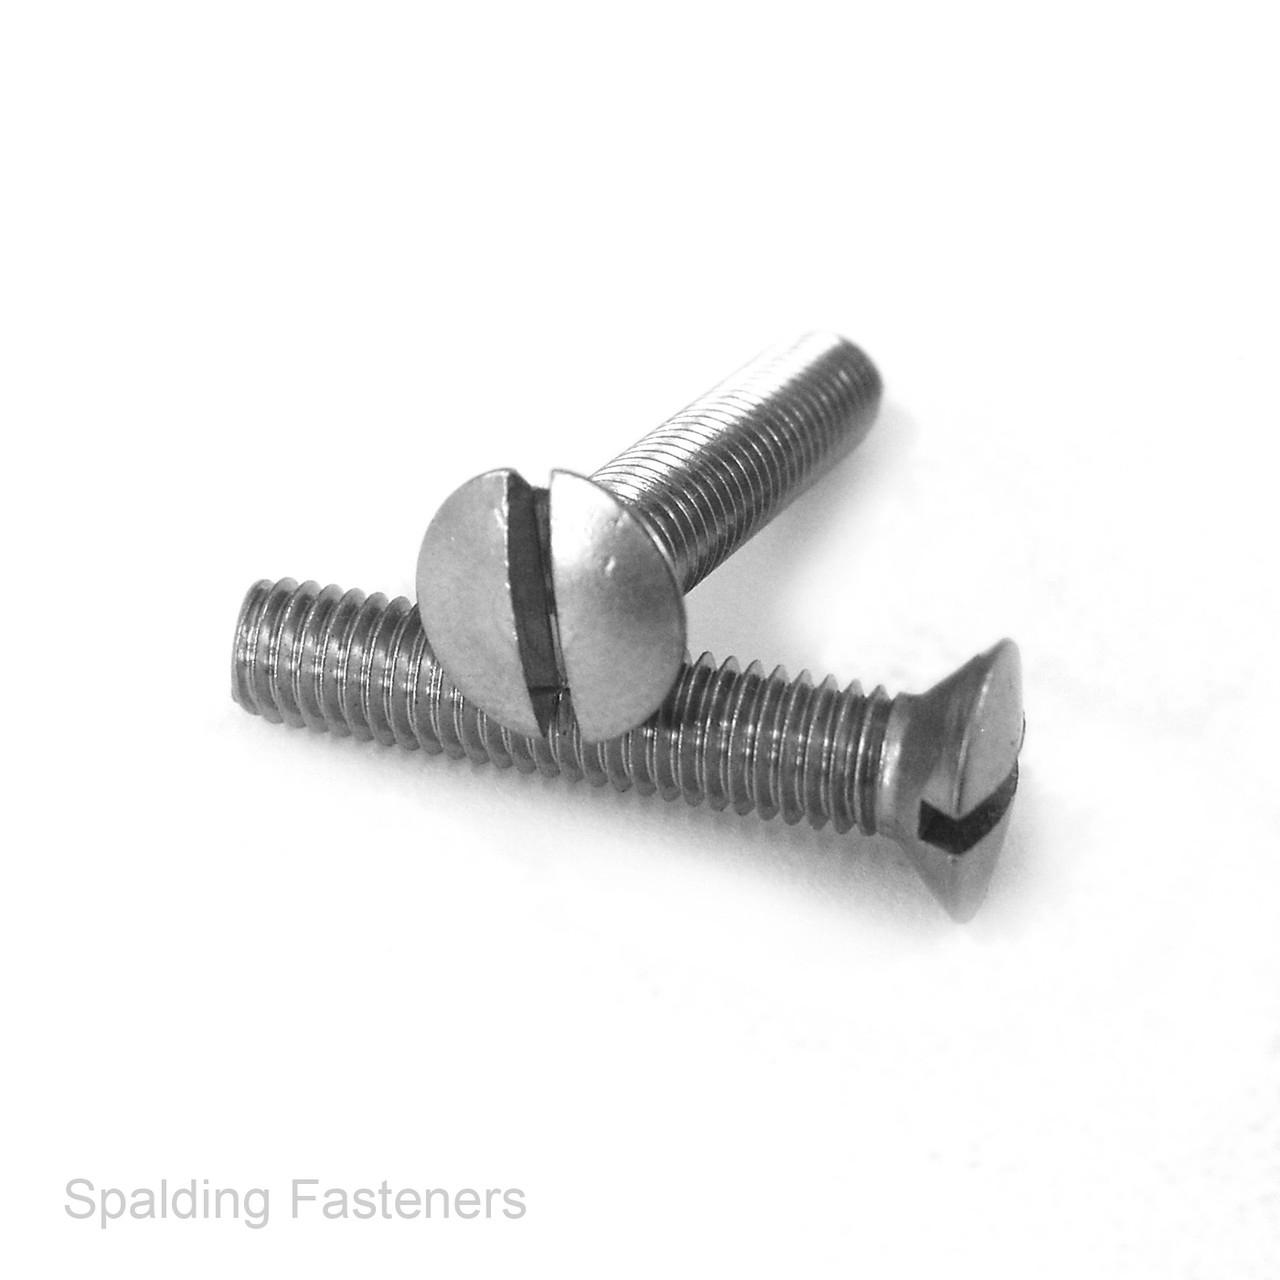screw: (423, 452, 675, 753)
